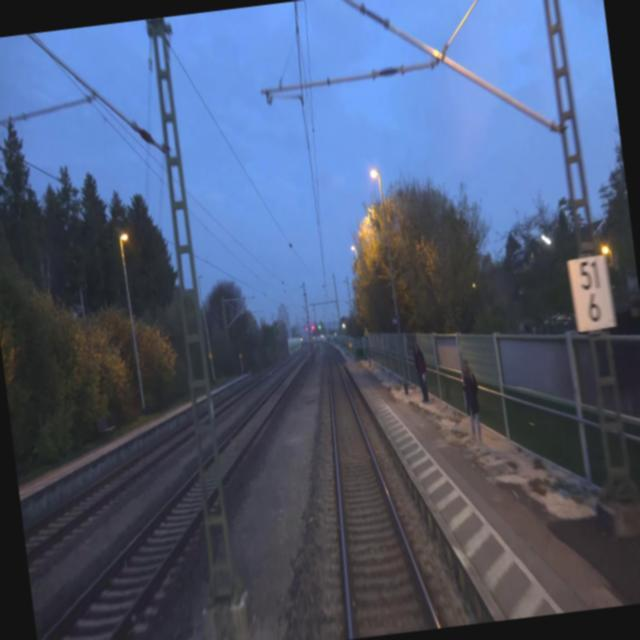rail: (318, 342, 478, 637)
